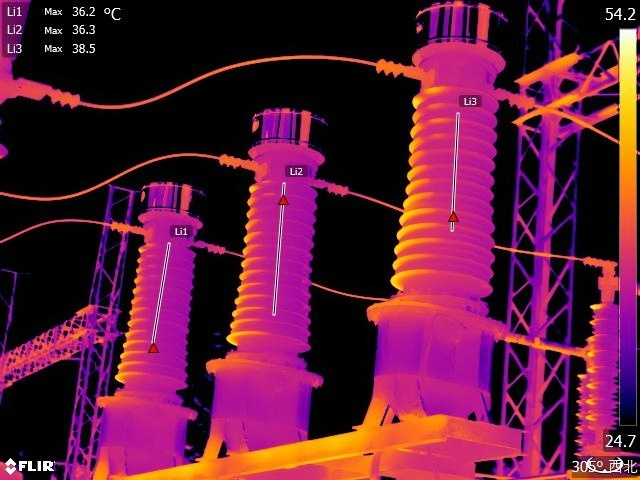current transformer: (363, 7, 511, 413), (198, 89, 345, 443), (84, 176, 212, 467)
post insulator: (580, 300, 622, 446)
